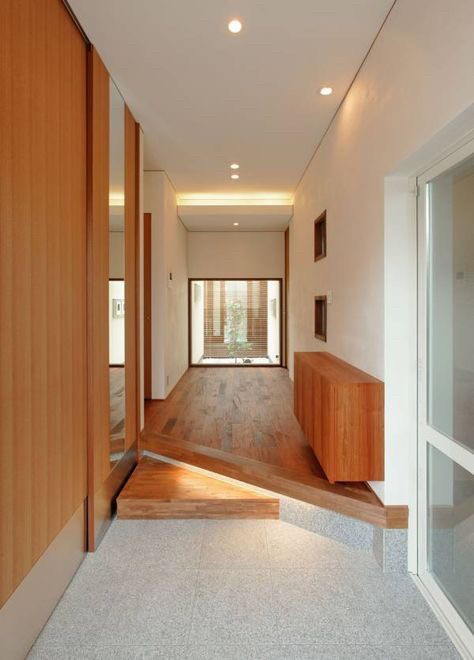floor: (25, 513, 464, 659)
